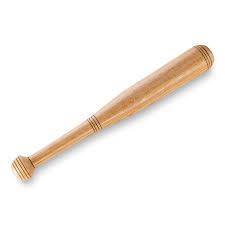baseball bat: (13, 44, 217, 183)
